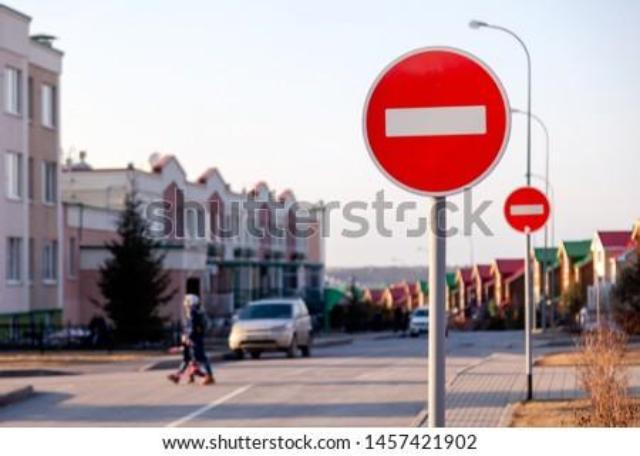B2: (360, 44, 512, 198), (504, 186, 550, 236)
